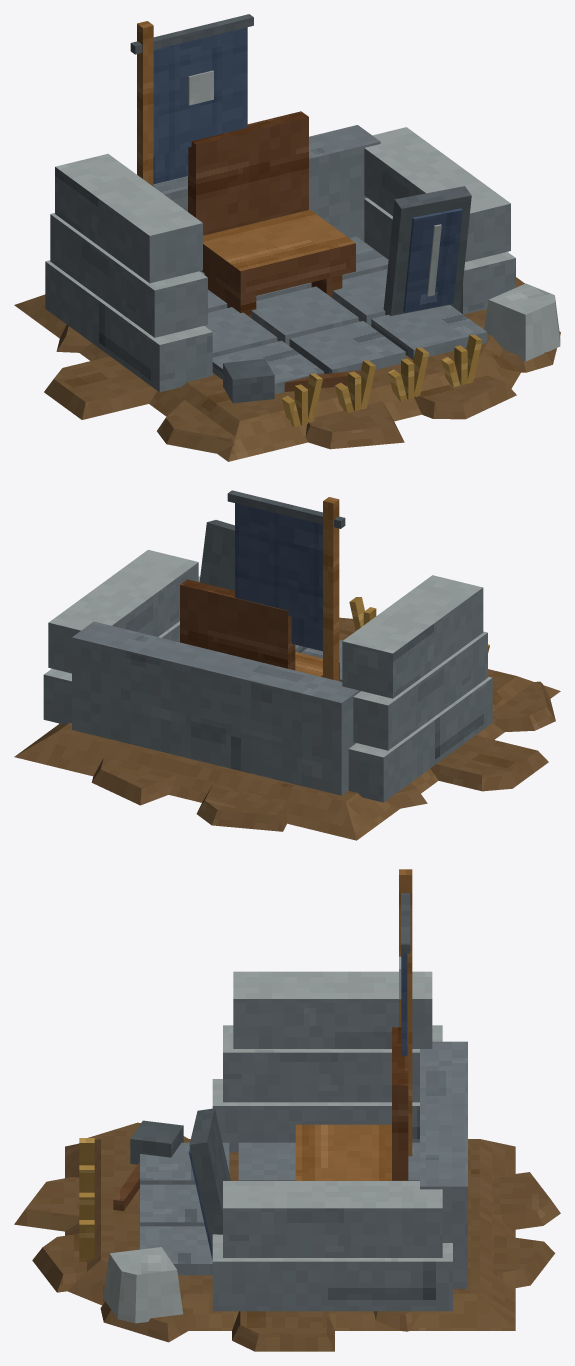
Rendered from corrupted_hero_lair_v1.glb.
3 views of the same model, one above another, from view 1: azimuth 30°, elevation 25°; view 2: azimuth 150°, elevation 25°; view 3: azimuth 270°, elevation 25° (orthographic). The views are drawn at different scales.
Parts seen in each view (by area): view 1: Model; view 2: Model; view 3: Model.
Boxes of the visible parts, x1,y1,x2,y2 form: Model: (14,14,560,461); Model: (14,490,560,840); Model: (14,869,560,1351).
Bounding box in the file's own units: 1.39 × 0.8508 × 1.34.
1 material, 1 textured.
